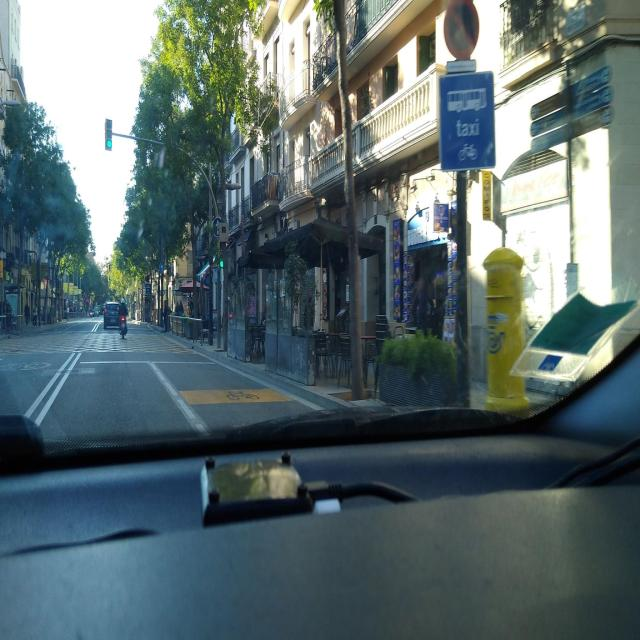car: (103, 301, 123, 332), (92, 306, 99, 318)
